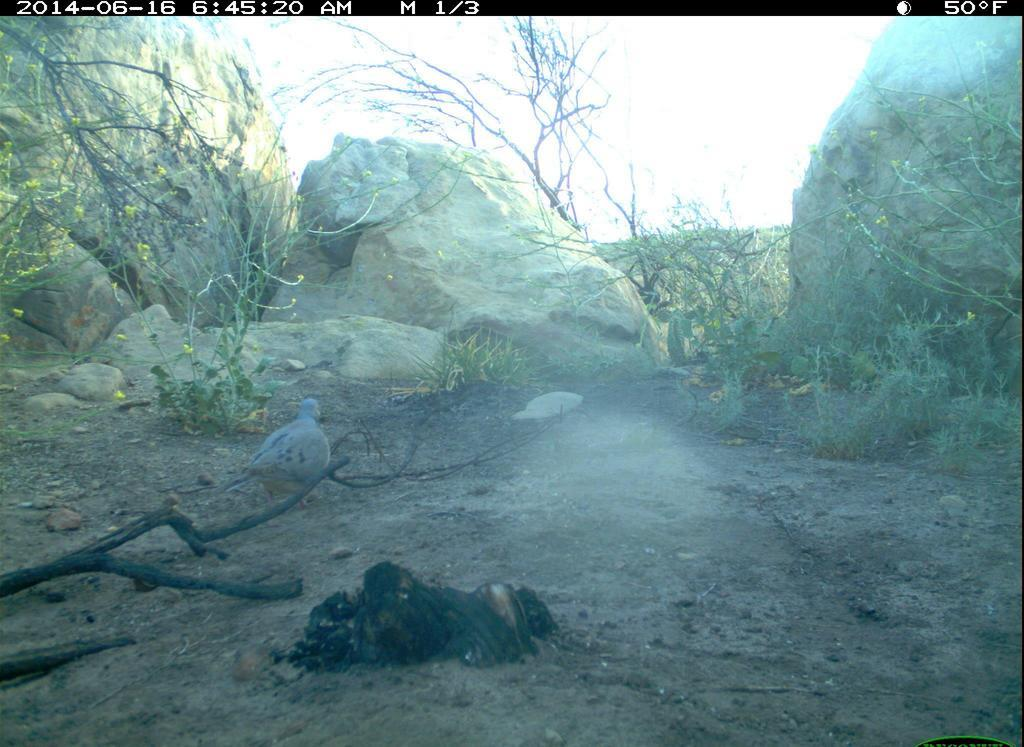bird: (226, 383, 381, 500)
